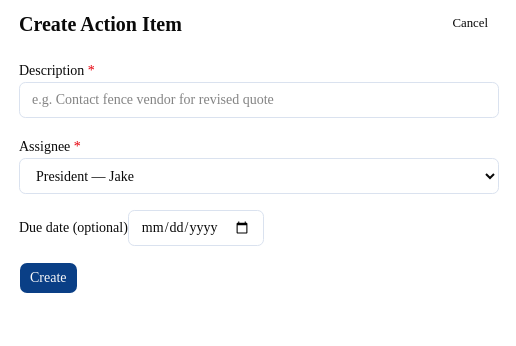
Scenario: ActionItemPanel › refuses an empty description rather than creating a blank item
Click the button "Create": (48, 278) [19, 262, 78, 294]
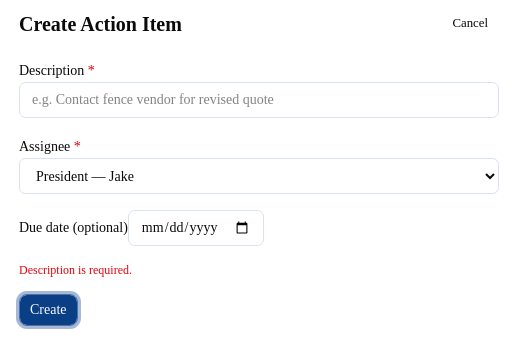
Now the message reads "Description is required.", box [19, 263, 132, 277]
